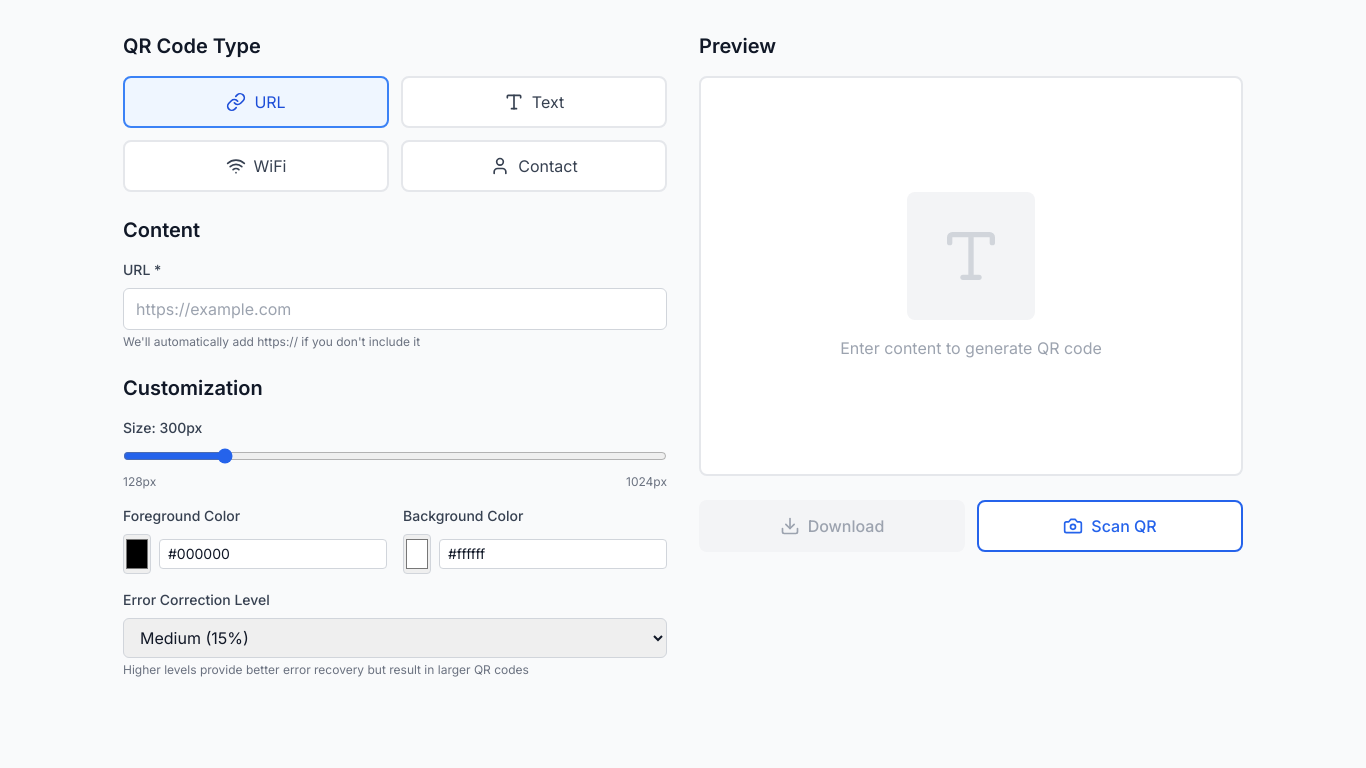
Test: should render WiFi QR inputs when WiFi type is selected
Click the radio button labelled "WiFi" at [256, 166], box [123, 140, 389, 192]
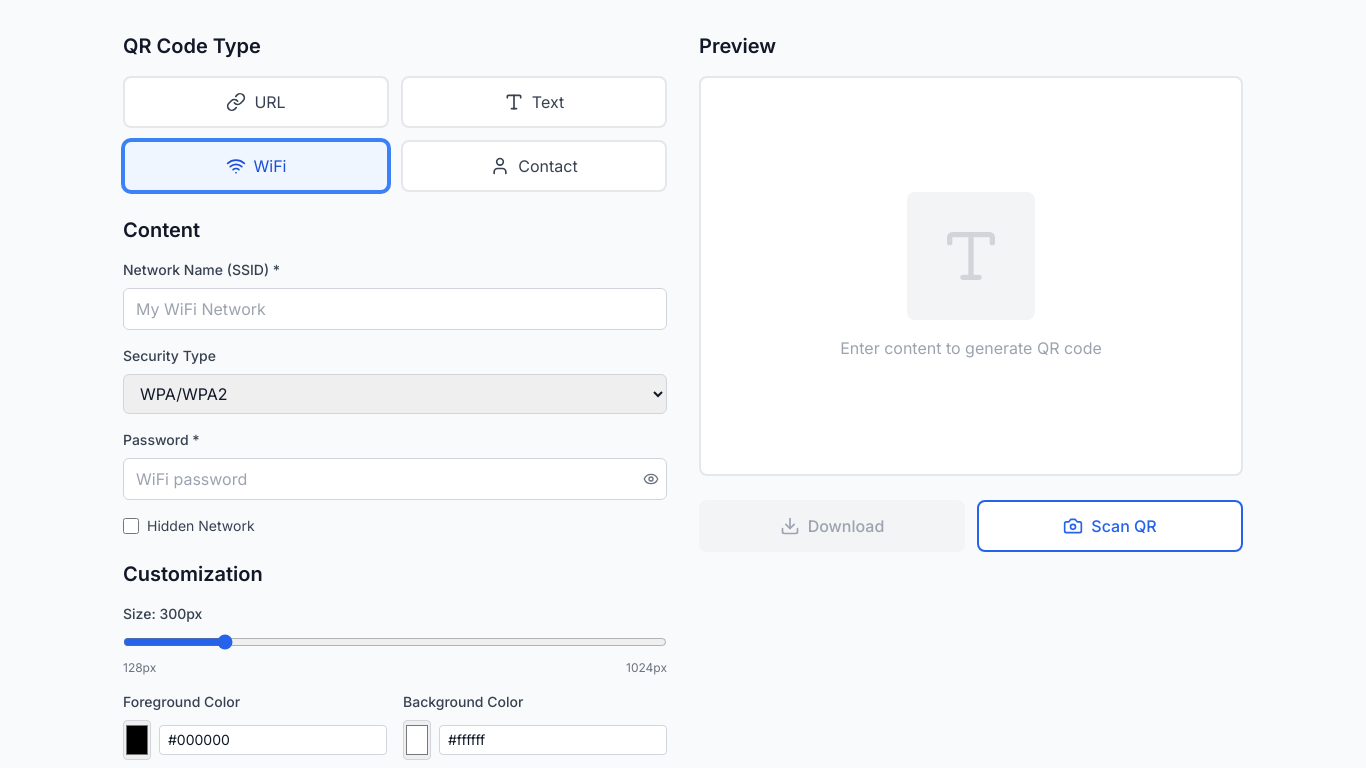
Check: the field labelled "Network Name (SSID) *" is shown, box [123, 288, 667, 330]
Check: the password field with placeholder "WiFi password" is shown, box [123, 458, 667, 500]
